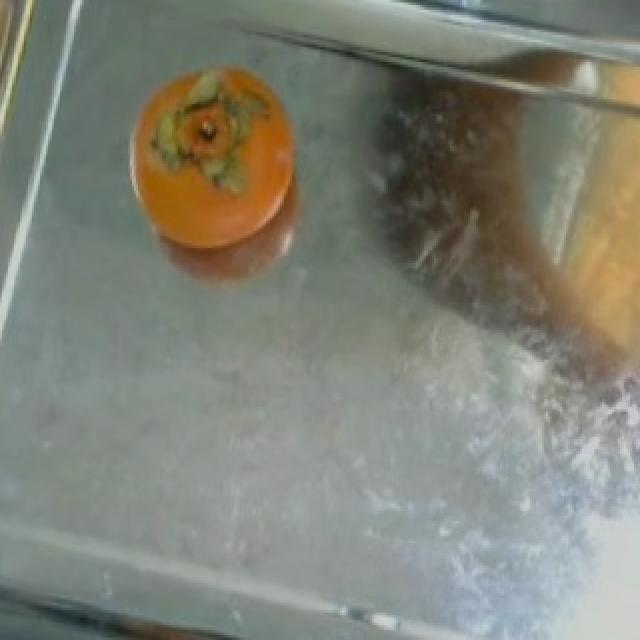Fruit: (110, 50, 322, 315)
